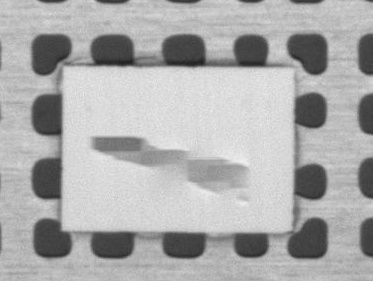DIE_INK: (113, 94, 336, 160)
